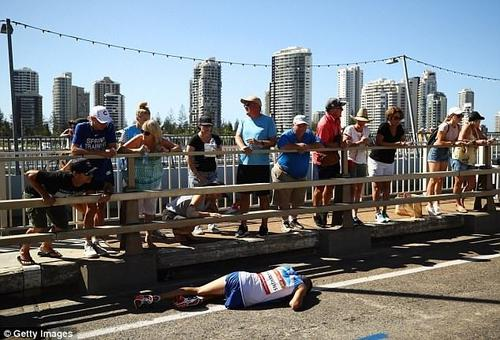10+: (15, 93, 499, 316)
down: (127, 259, 319, 315)
